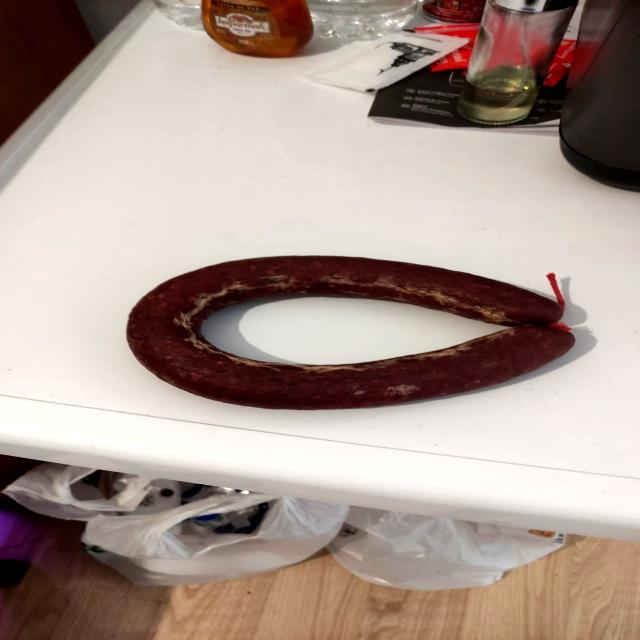sausage: (111, 243, 598, 417)
